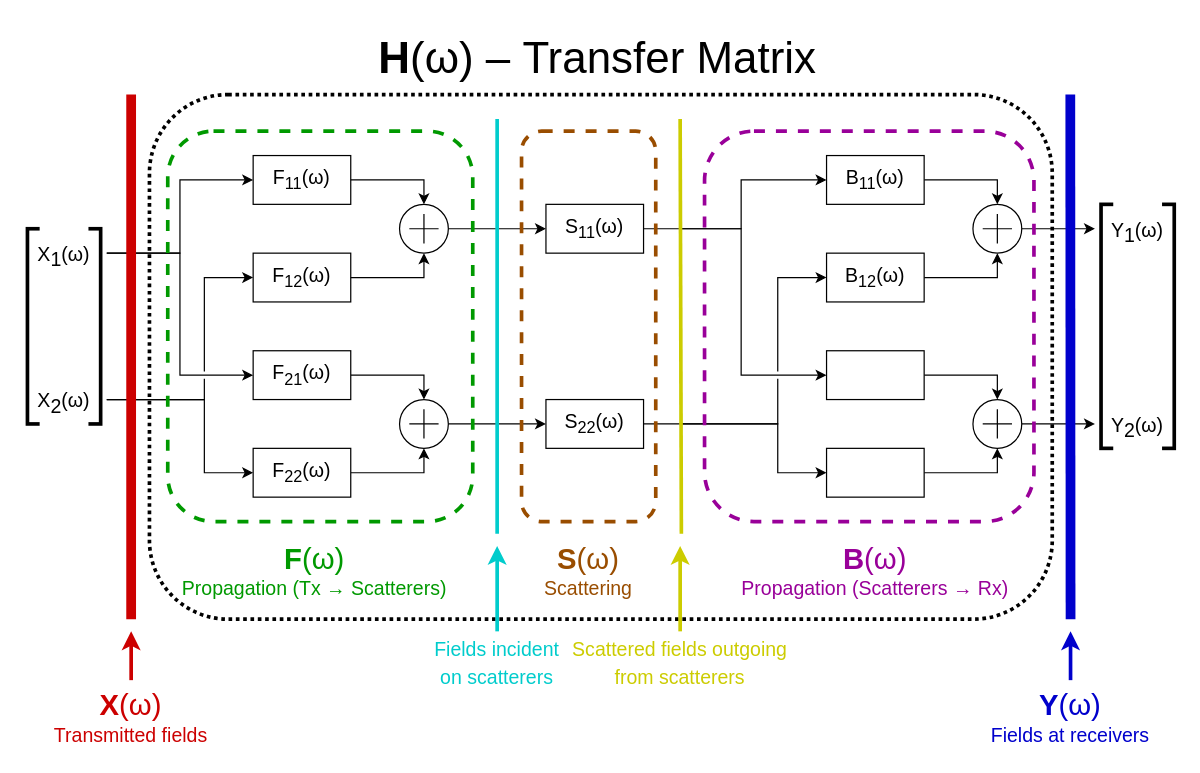
This 1200x773 diagram has some shape labels left out. Each missing label, with the centre of its shape:
"B 21 (ω)" goes at point (874, 375).
"B 22 (ω)" goes at point (874, 472).
